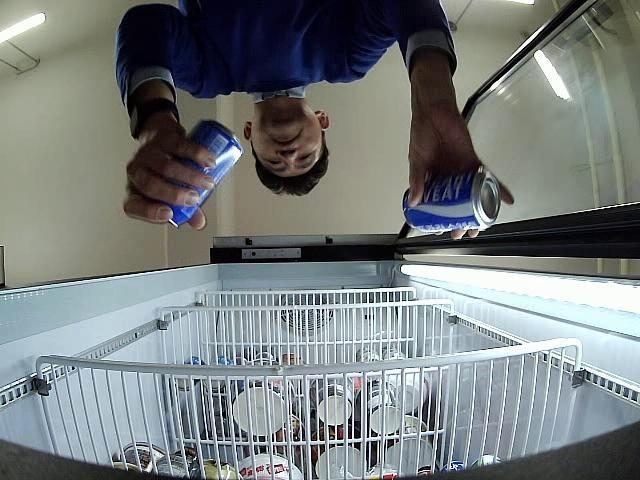13_pocariSweat: (168, 120, 244, 228), (402, 165, 500, 232)
